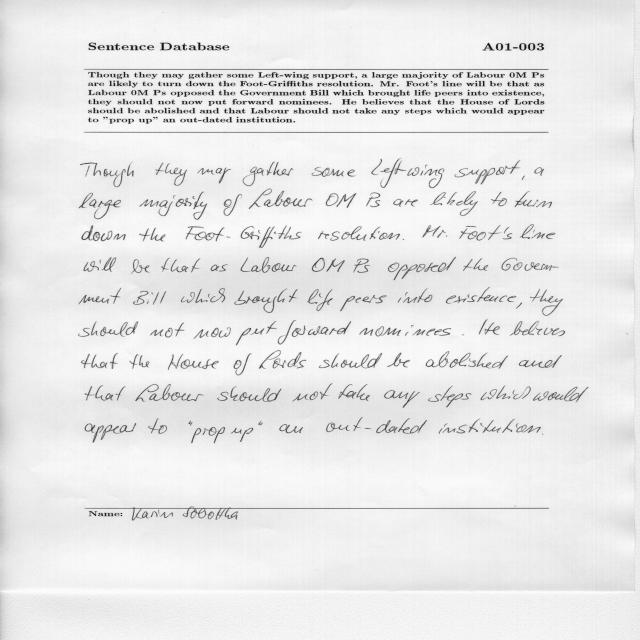word: (186, 226, 302, 248), (372, 158, 445, 188), (140, 192, 208, 220), (278, 320, 351, 345), (326, 417, 427, 434), (455, 160, 521, 184), (388, 257, 456, 280), (234, 289, 298, 313), (439, 419, 541, 434), (426, 351, 508, 369), (81, 162, 134, 187), (249, 189, 313, 209), (135, 384, 204, 402), (318, 226, 400, 241), (243, 162, 293, 186), (430, 191, 478, 216), (446, 287, 516, 304), (360, 325, 452, 337), (79, 193, 121, 219), (217, 386, 282, 402), (86, 423, 137, 443), (236, 321, 277, 345), (428, 386, 471, 408), (319, 353, 382, 368), (79, 321, 138, 337), (241, 257, 297, 273), (530, 289, 563, 316), (312, 258, 370, 273), (326, 192, 380, 208), (259, 351, 306, 369), (533, 387, 589, 402), (510, 321, 565, 336), (168, 354, 219, 370), (460, 225, 513, 240), (501, 258, 559, 271), (340, 295, 387, 311), (293, 384, 333, 402), (480, 386, 531, 400), (156, 163, 187, 186), (82, 226, 126, 242), (79, 288, 121, 304), (181, 288, 225, 303), (384, 390, 420, 408), (514, 191, 552, 208), (85, 385, 125, 401), (82, 353, 118, 369), (307, 289, 333, 311), (519, 355, 562, 368), (162, 258, 201, 272), (338, 384, 370, 401), (191, 427, 225, 443), (198, 168, 231, 184), (150, 323, 185, 338), (520, 225, 555, 239), (84, 257, 116, 272), (398, 289, 432, 303), (133, 291, 166, 305), (194, 327, 231, 339), (312, 167, 355, 177), (223, 194, 242, 216), (234, 354, 252, 376), (139, 228, 166, 241), (423, 225, 448, 238), (463, 258, 488, 271), (387, 353, 410, 367), (479, 319, 499, 335), (231, 428, 253, 442), (148, 418, 167, 434), (131, 259, 150, 274), (130, 354, 149, 369), (491, 192, 507, 206), (279, 424, 303, 433), (393, 199, 418, 206), (211, 265, 228, 272), (534, 167, 544, 176), (516, 302, 522, 309), (258, 421, 263, 426), (189, 421, 193, 426), (522, 176, 525, 180), (403, 239, 404, 240), (542, 434, 543, 435), (462, 335, 464, 335)
